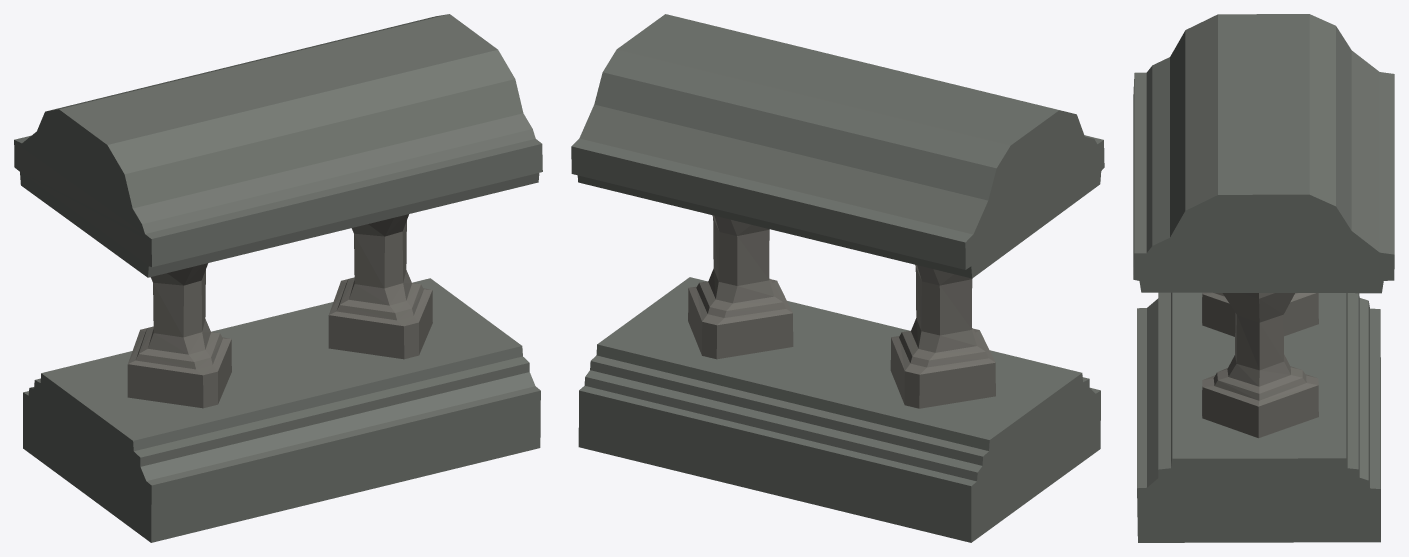
The model's file is MCastle_Baluster_Straight_02.FBX.
The picture shows the model from 3 angles, left to right: view 1: azimuth 30°, elevation 25°; view 2: azimuth 150°, elevation 25°; view 3: azimuth 270°, elevation 25°; orthographic projection. The views are drawn at different scales.
Visible parts, largest first — view 1: MCastle_Baluster_Straight_02_LOD0; view 2: MCastle_Baluster_Straight_02_LOD0; view 3: MCastle_Baluster_Straight_02_LOD0.
Boxes of the visible parts, x1=… form: MCastle_Baluster_Straight_02_LOD0: x1=14, y1=14, x2=542, y2=542; MCastle_Baluster_Straight_02_LOD0: x1=571, y1=14, x2=1104, y2=542; MCastle_Baluster_Straight_02_LOD0: x1=1133, y1=14, x2=1394, y2=542.
Size of what is drawn, in the model's own units: 1.33 by 1.2 by 0.8164.
